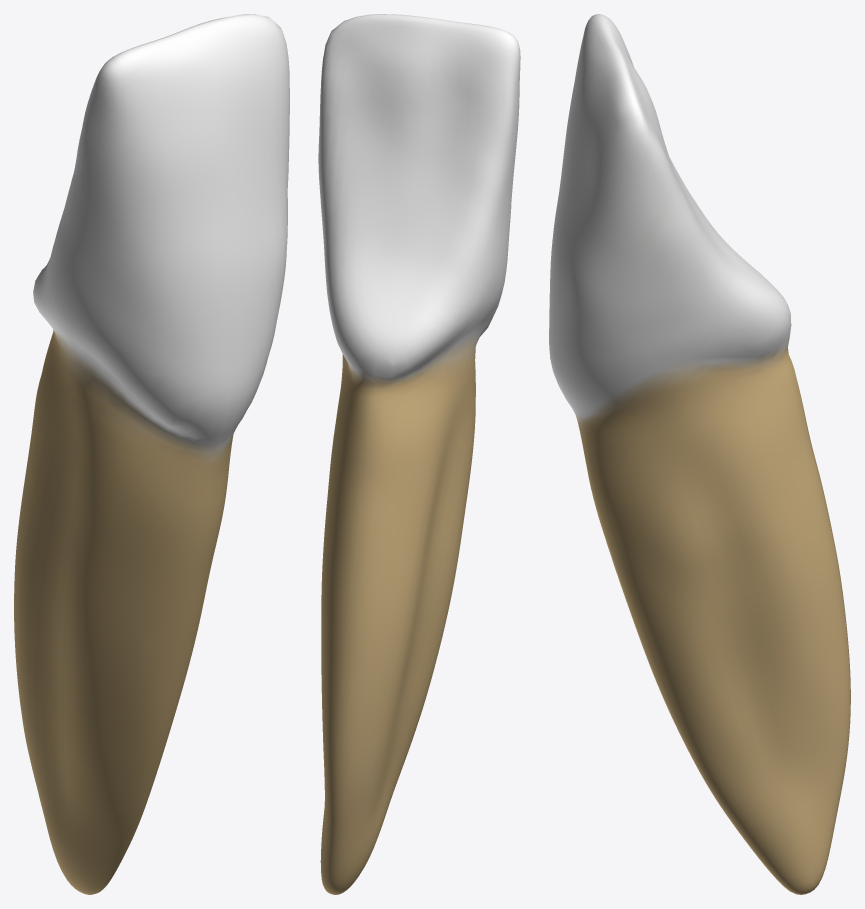
3 views of the same model, side by side, from view 1: azimuth 30°, elevation 25°; view 2: azimuth 150°, elevation 25°; view 3: azimuth 270°, elevation 25° (orthographic). The views are drawn at different scales.
Visible parts, largest first — view 1: outer; view 2: outer; view 3: outer.
Boxes of the visible parts, x1,y1,x2,y2 form: outer: (14,14,289,894); outer: (318,14,520,894); outer: (549,14,850,894).
Size of the model in its own units: 2.04 by 8.79 by 2.84.
Materials: 2 (1 with a texture image).
